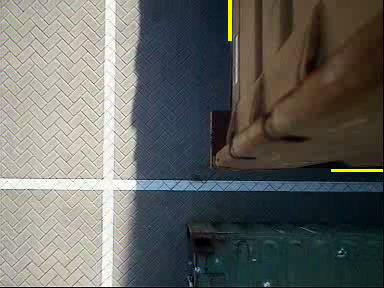groundmarker_2: (135, 19, 196, 69), (131, 141, 191, 190)
